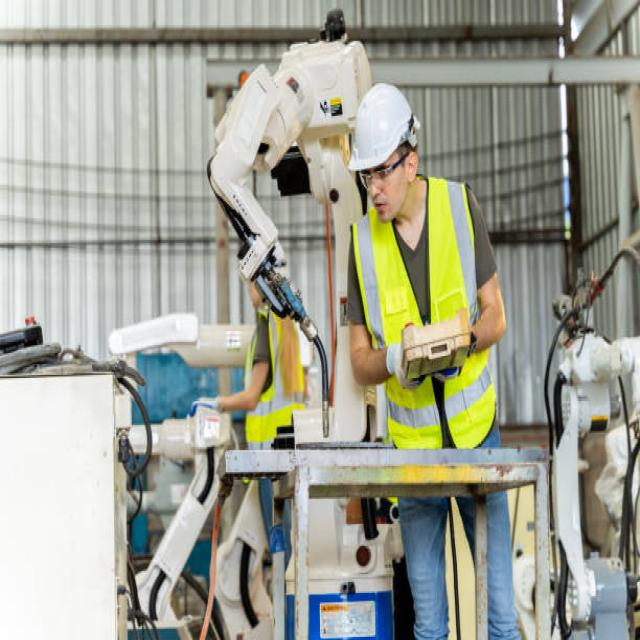Robotic-arm: (204, 10, 380, 456), (118, 405, 236, 640), (542, 324, 640, 596)
